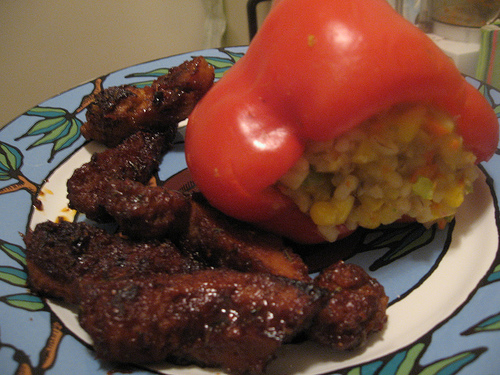capsicum: (185, 1, 498, 245)
